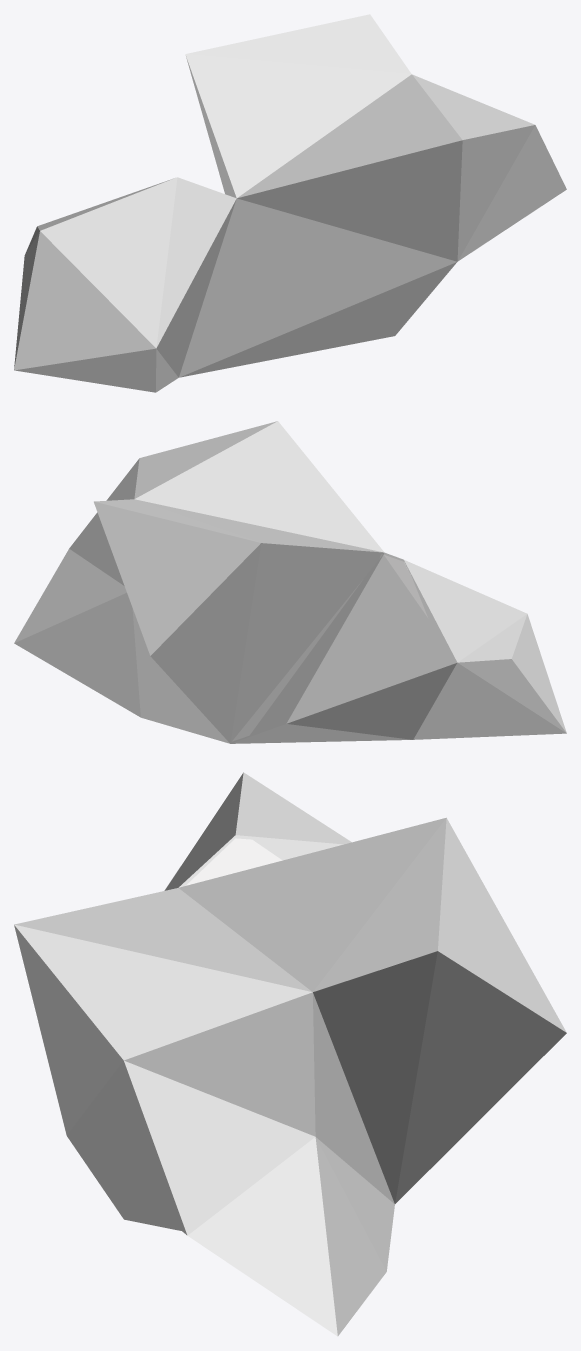
Rendered from resource__decoration__snow_2.fbx.
The picture shows the model from 3 angles, top to bottom: view 1: azimuth 30°, elevation 25°; view 2: azimuth 150°, elevation 25°; view 3: azimuth 270°, elevation 25°; orthographic projection. The views are drawn at different scales.
Parts seen in each view (by area): view 1: Snow_02; view 2: Snow_02; view 3: Snow_02.
Boxes of the visible parts, x1=… form: Snow_02: x1=14, y1=14, x2=566, y2=392; Snow_02: x1=14, y1=421, x2=566, y2=743; Snow_02: x1=14, y1=772, x2=566, y2=1336.
Bounding box in the file's own units: 1013 × 434 × 603.
